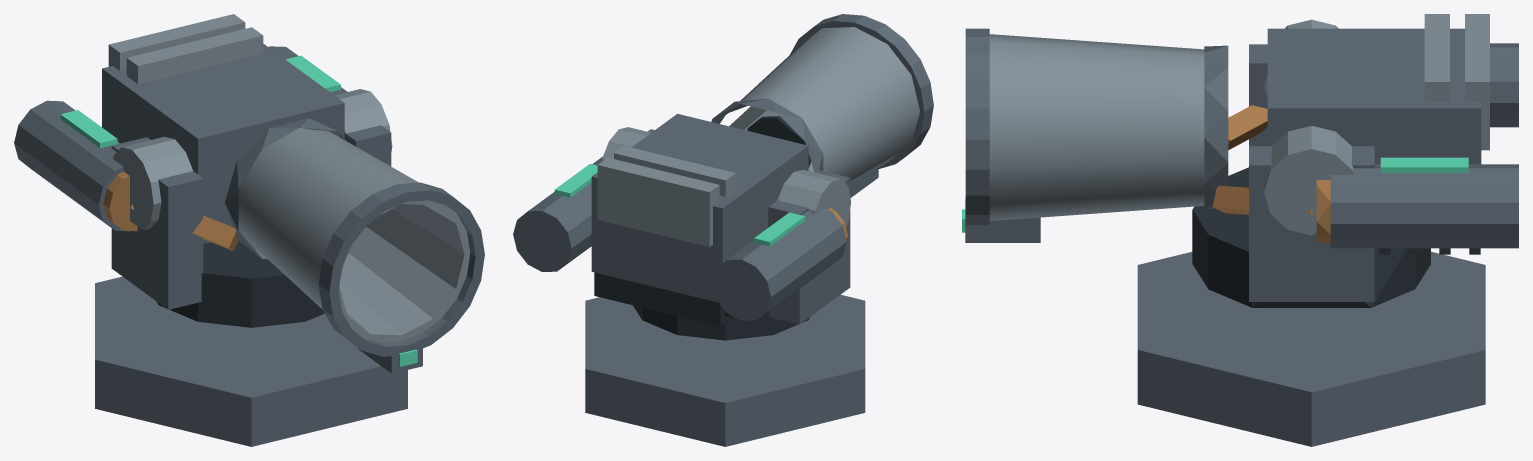
Rendered from plasma_t1_d0.glb.
3 views of the same model, side by side, from view 1: azimuth 30°, elevation 25°; view 2: azimuth 150°, elevation 25°; view 3: azimuth 270°, elevation 25° (orthographic). The views are drawn at different scales.
Parts seen in each view (by area): view 1: ROOT_ARMOR_GEOMETRY; view 2: ROOT_ARMOR_GEOMETRY; view 3: ROOT_ARMOR_GEOMETRY.
Boxes of the visible parts, x1,y1,x2,y2 form: ROOT_ARMOR_GEOMETRY: (14,14,484,446); ROOT_ARMOR_GEOMETRY: (513,14,933,446); ROOT_ARMOR_GEOMETRY: (962,14,1518,446).
Size of the model in its own units: 1.6 by 1.43 by 2.22.
